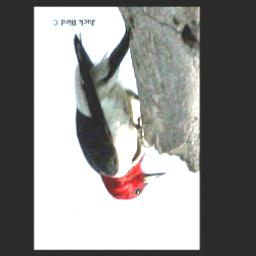Woodpecker: (71, 29, 170, 201)
